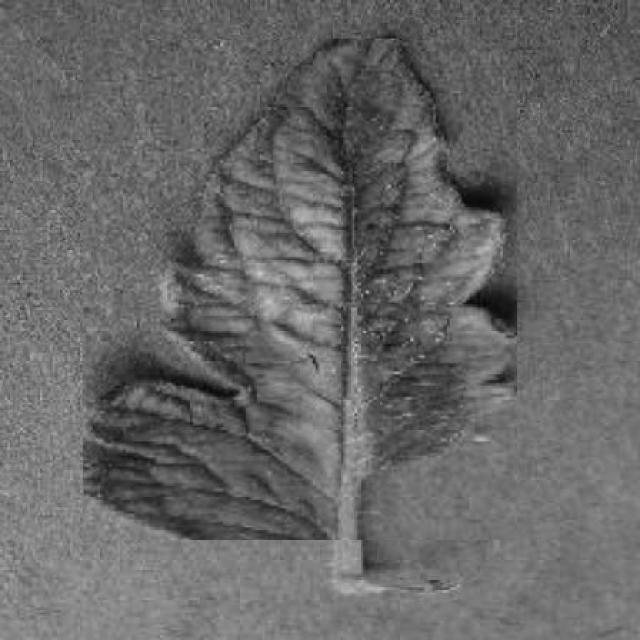Mosaic Virus: (83, 39, 517, 540)
